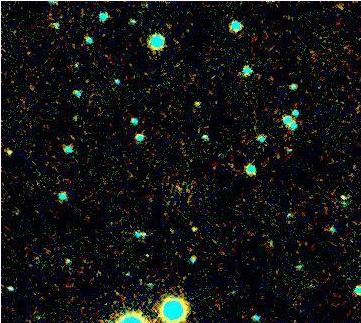star: (180, 216, 210, 246)
